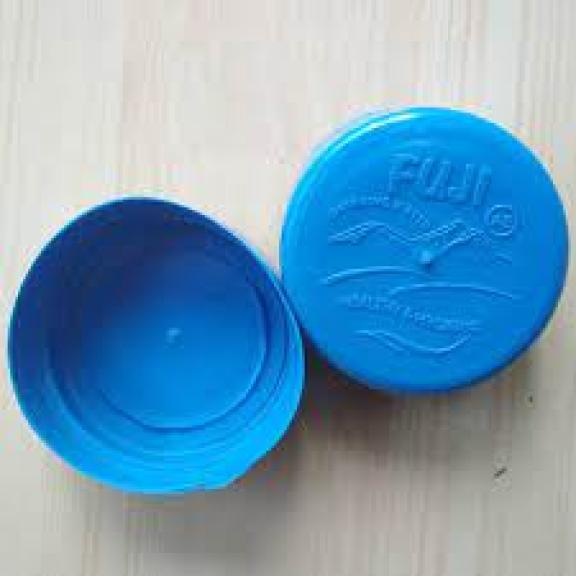Plastik: (5, 197, 307, 497), (279, 108, 571, 399)
